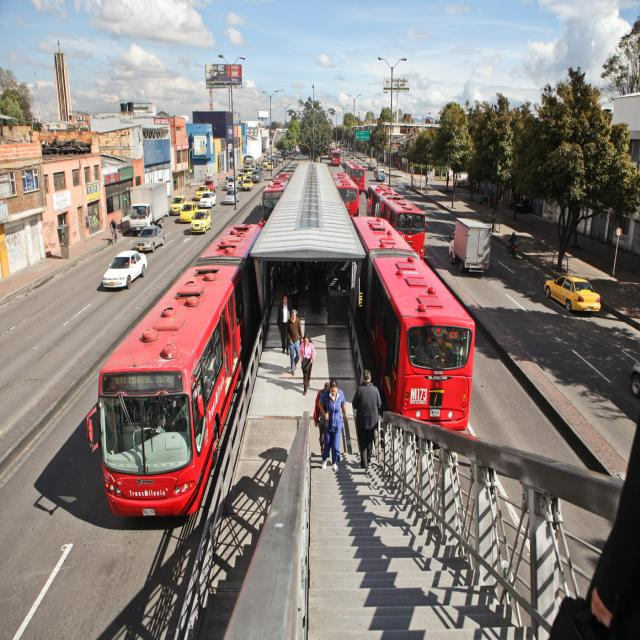BUS: (99, 269, 244, 525), (364, 260, 474, 435)
